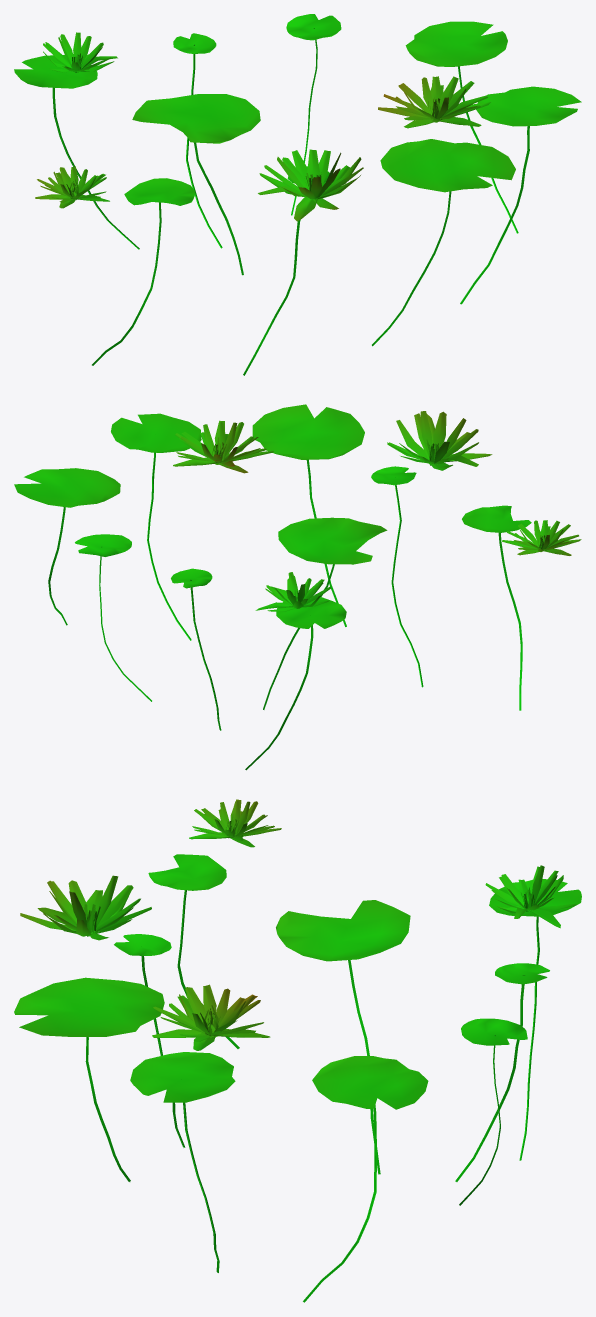
File: uc2jdibia_Var7_LOD0.fbx
3 views of the same model, one above another, from view 1: azimuth 30°, elevation 25°; view 2: azimuth 150°, elevation 25°; view 3: azimuth 270°, elevation 25° (orthographic). The views are drawn at different scales.
Visible parts, largest first — view 1: _04b7_Var7_LOD0; view 2: _04b7_Var7_LOD0; view 3: _04b7_Var7_LOD0.
Part boxes in pixels (x1=…): _04b7_Var7_LOD0: x1=14, y1=14, x2=581, y2=375; _04b7_Var7_LOD0: x1=14, y1=404, x2=581, y2=770; _04b7_Var7_LOD0: x1=14, y1=799, x2=581, y2=1302.
Bounding box in the file's own units: 130 × 58.28 × 106.
